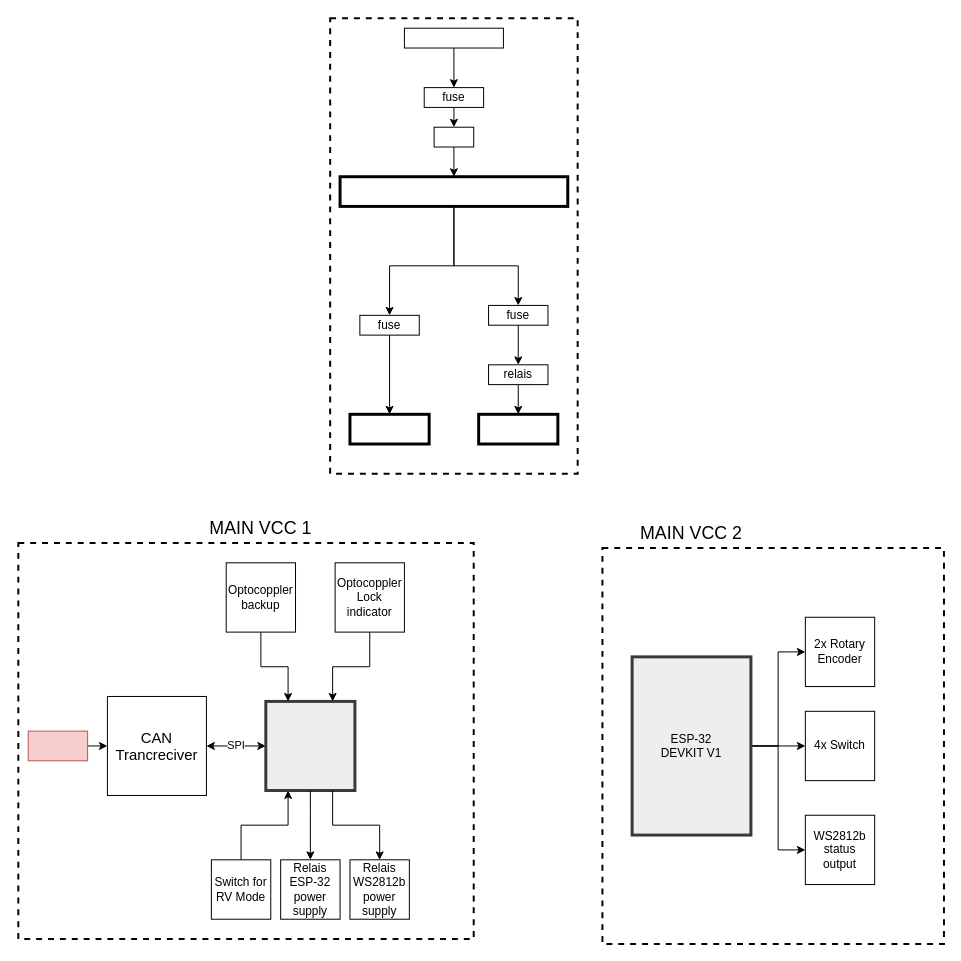
This 961x961 diagram has some shape labels left out. The shapes that lost their labels are listed below. From the top down, each one's centre as x and y in pixels, then its label:
At (453,37): "screw connector".
At (453,136): "INA".
At (453,191): "VCC BAT (10V-15V)".
At (389,428): "MCU VCC 1".
At (518,428): "MCU VCC 2".
At (57,745): "CONF CAN".
At (310,745): "Arduino NANO".
